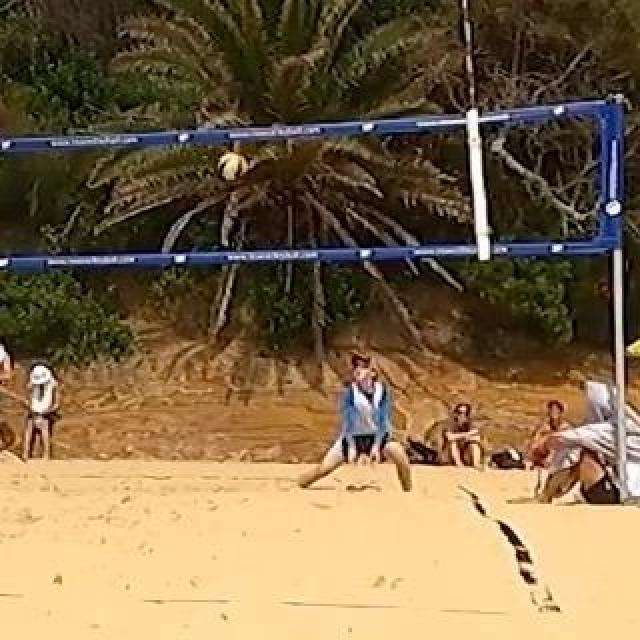volleyball: (218, 152, 248, 180)
